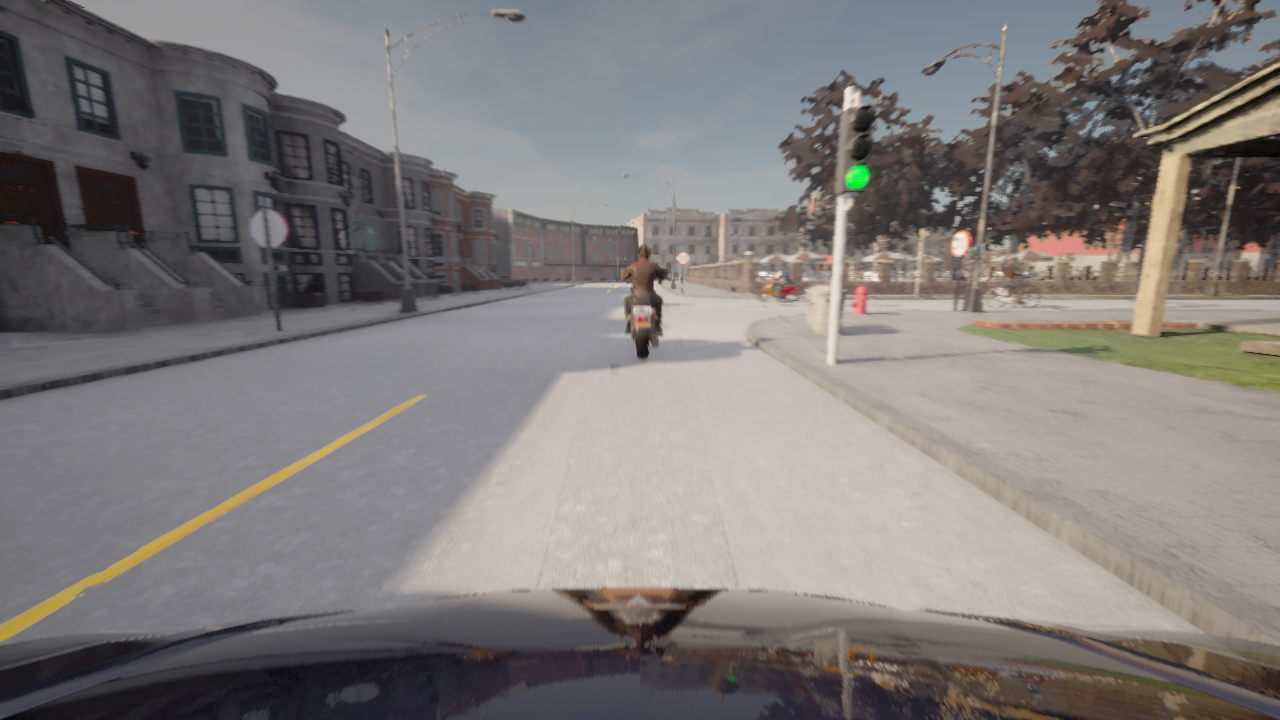cyclist: (0, 588, 1279, 719), (621, 269, 668, 360), (987, 276, 1040, 308), (759, 272, 802, 302), (629, 279, 632, 292)
